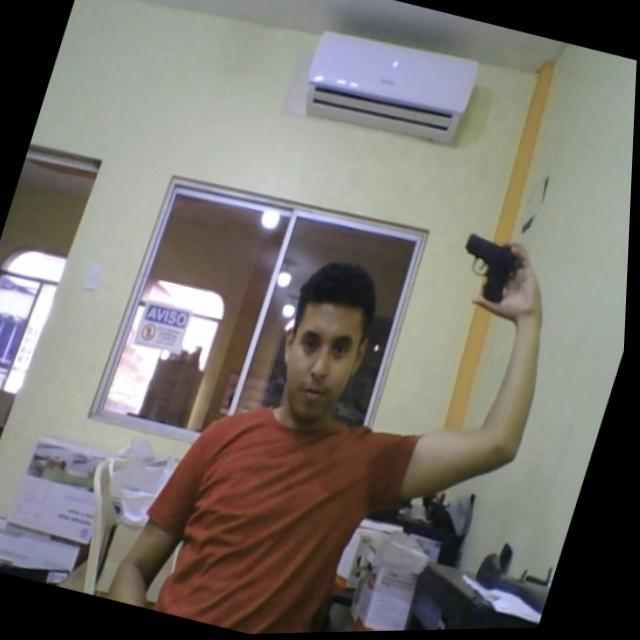weapon: (452, 232, 530, 310)
